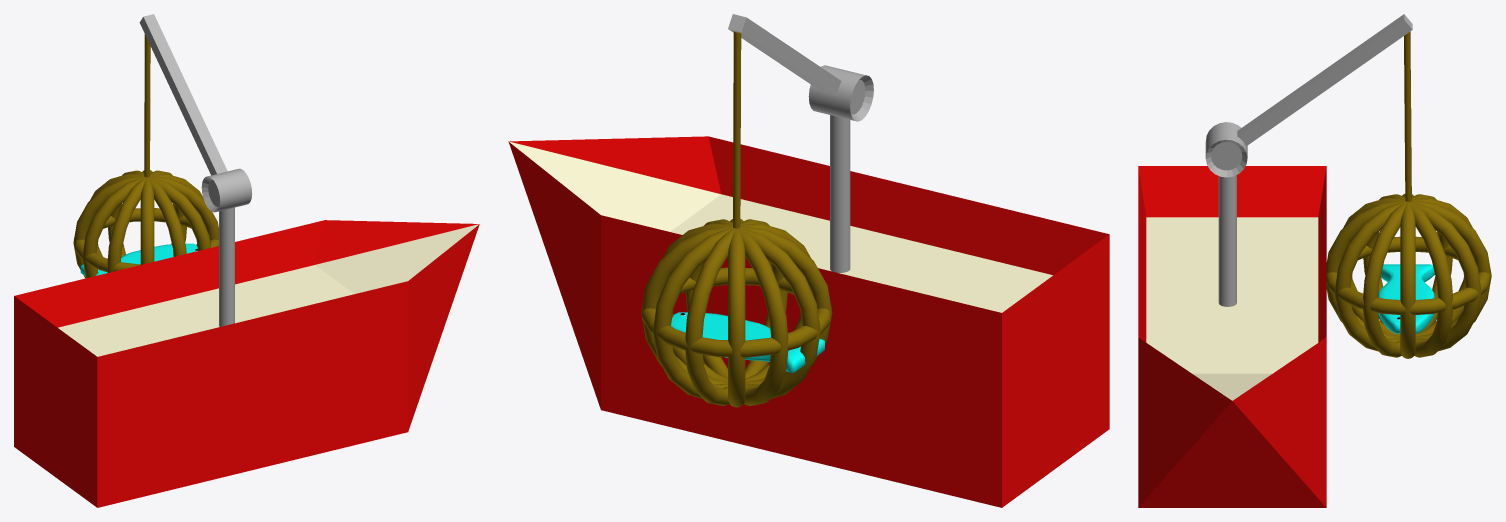
File: fishing boat.fbx
3 renders of one model, left to right at view 1: azimuth 30°, elevation 25°; view 2: azimuth 150°, elevation 25°; view 3: azimuth 270°, elevation 25°, orthographic. The views are drawn at different scales.
Parts seen in each view (by area): view 1: fishing_boat, fishing_net, rod, fishing_pole, axel, rope1, fish; view 2: fishing_boat, fishing_net, fishing_pole, rod, axel, fish, rope1; view 3: fishing_boat, fishing_net, rod, fishing_pole, axel, fish, rope1.
Boxes of the visible parts, <box> form: fishing_boat: <box>14,220,479,507</box>; fishing_net: <box>73,170,218,278</box>; rod: <box>139,14,227,175</box>; fishing_pole: <box>219,207,234,326</box>; axel: <box>201,168,252,212</box>; rope1: <box>144,34,150,177</box>; fish: <box>80,243,197,276</box>; fishing_boat: <box>508,136,1109,507</box>; fishing_net: <box>641,219,832,407</box>; fishing_pole: <box>830,115,850,272</box>; rod: <box>728,14,841,95</box>; axel: <box>808,65,873,121</box>; fish: <box>671,312,824,372</box>; rope1: <box>733,31,741,228</box>; fishing_boat: <box>1138,166,1326,507</box>; fishing_net: <box>1326,194,1491,358</box>; rod: <box>1237,14,1412,146</box>; fishing_pole: <box>1218,175,1236,306</box>; axel: <box>1205,122,1247,177</box>; fish: <box>1378,264,1434,333</box>; rope1: <box>1404,31,1411,201</box>.
Size of the model in its own units: 15.91 by 13.1 by 10.16.
